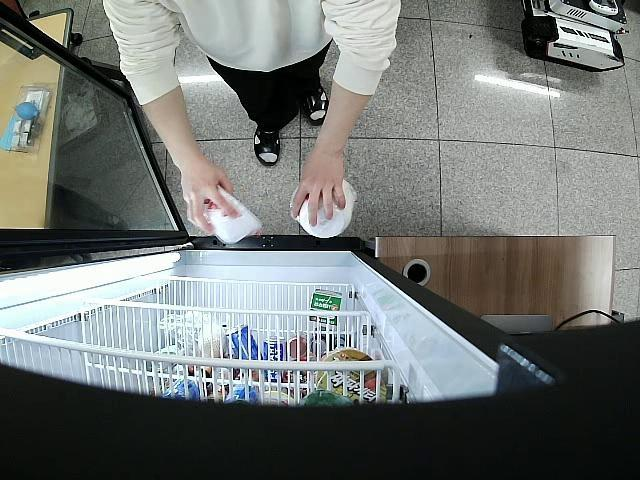09_yukGaeJang: (291, 176, 358, 239), (202, 182, 263, 246)
